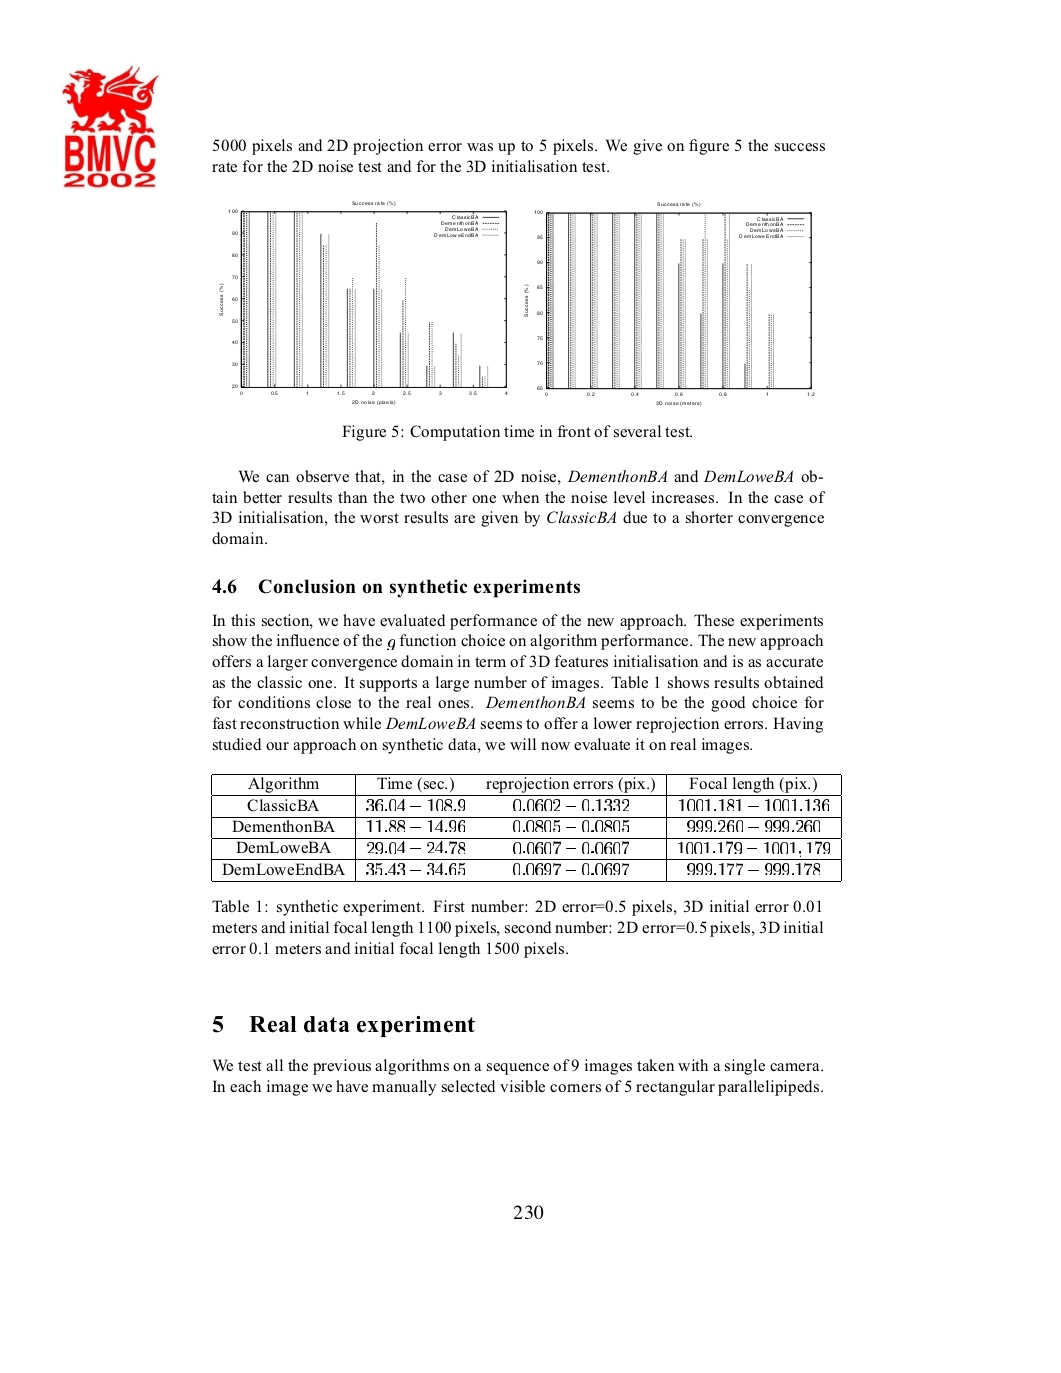Table: (211, 772, 841, 882)
figure: (524, 202, 814, 405), (220, 201, 507, 405), (61, 65, 158, 187)
